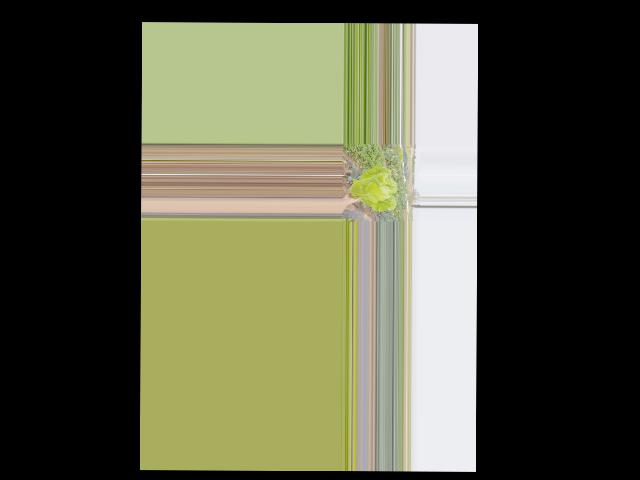lettuce: (345, 164, 397, 214)
